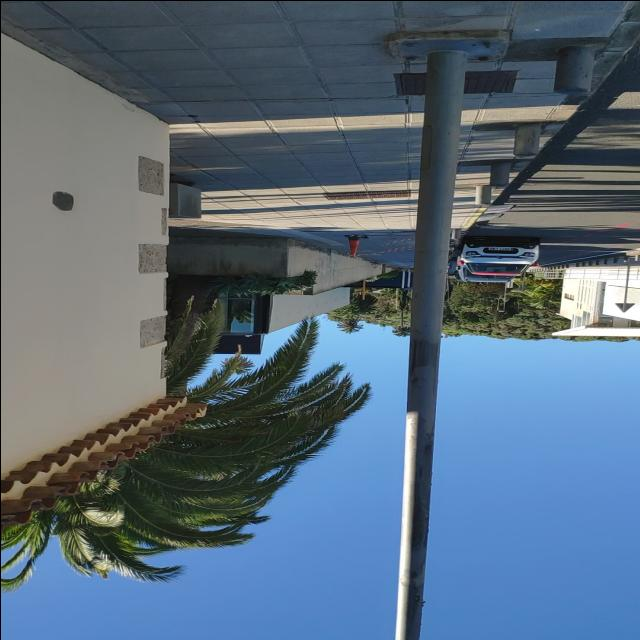Palm-Trees: (0, 307, 346, 590)
